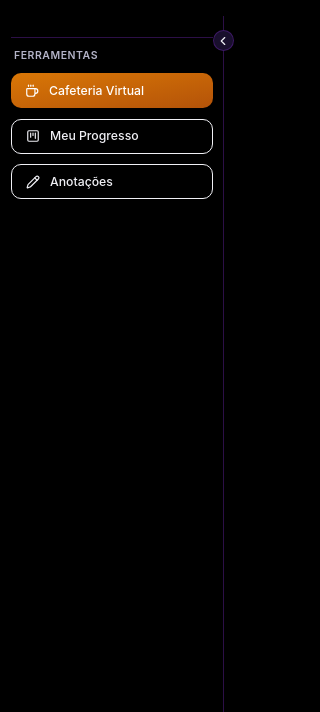
QuickAccessSidebar › colapsa a sidebar ao clicar no botão de toggle
The width and height of the screenshot is (320, 712).
Check: the text "Anotações" is shown, box [50,173,113,190]
Click the 1st button: click(223, 40) [212,30,234,51]
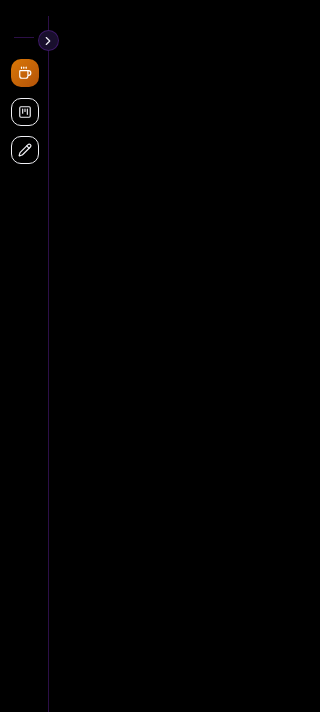
Check: the text "Anotações" is gone
